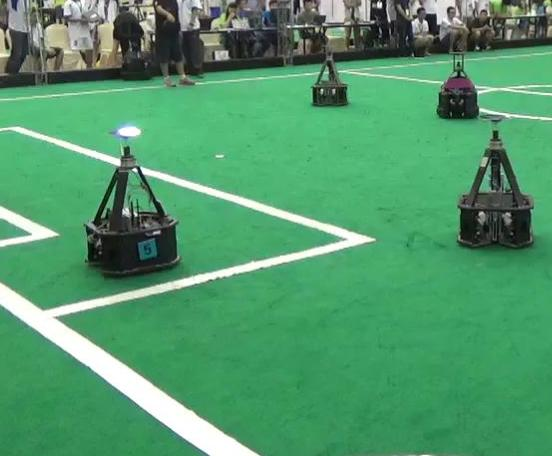robot: (81, 125, 181, 276), (451, 115, 535, 250), (432, 46, 486, 120), (307, 45, 353, 108)
